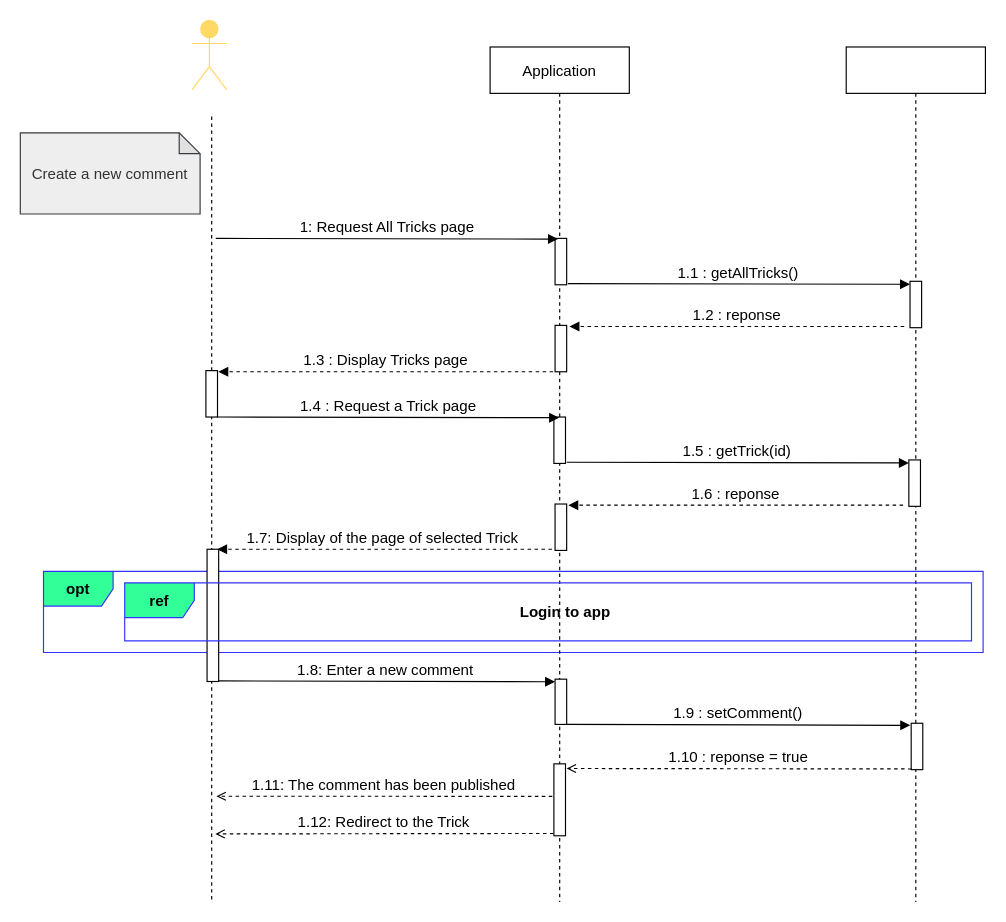
Image size: 1006x922. Some labels were removed from this diagram. Each missing label, with the centre of its shape:
":User" belongs at point (209, 54).
"Database" belongs at point (915, 474).
